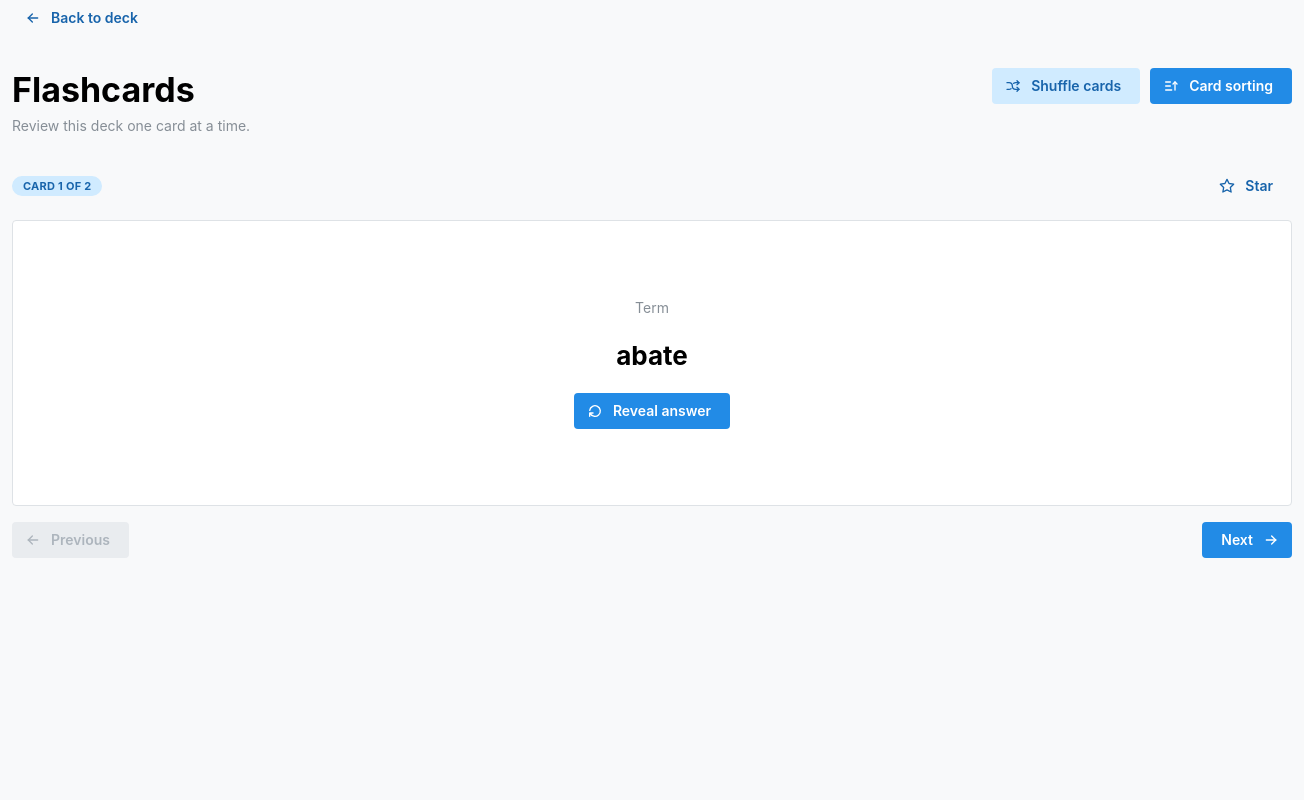
Test case: FlashcardViewerPage › clamps the current card when refreshed cards shrink
This screenshot has width=1304, height=800.
Expected: the heading "abate" is shown, [616,338,688,373]
Click the button with aria-label "Next card". click: (1247, 540)
box: [1202,522,1292,558]
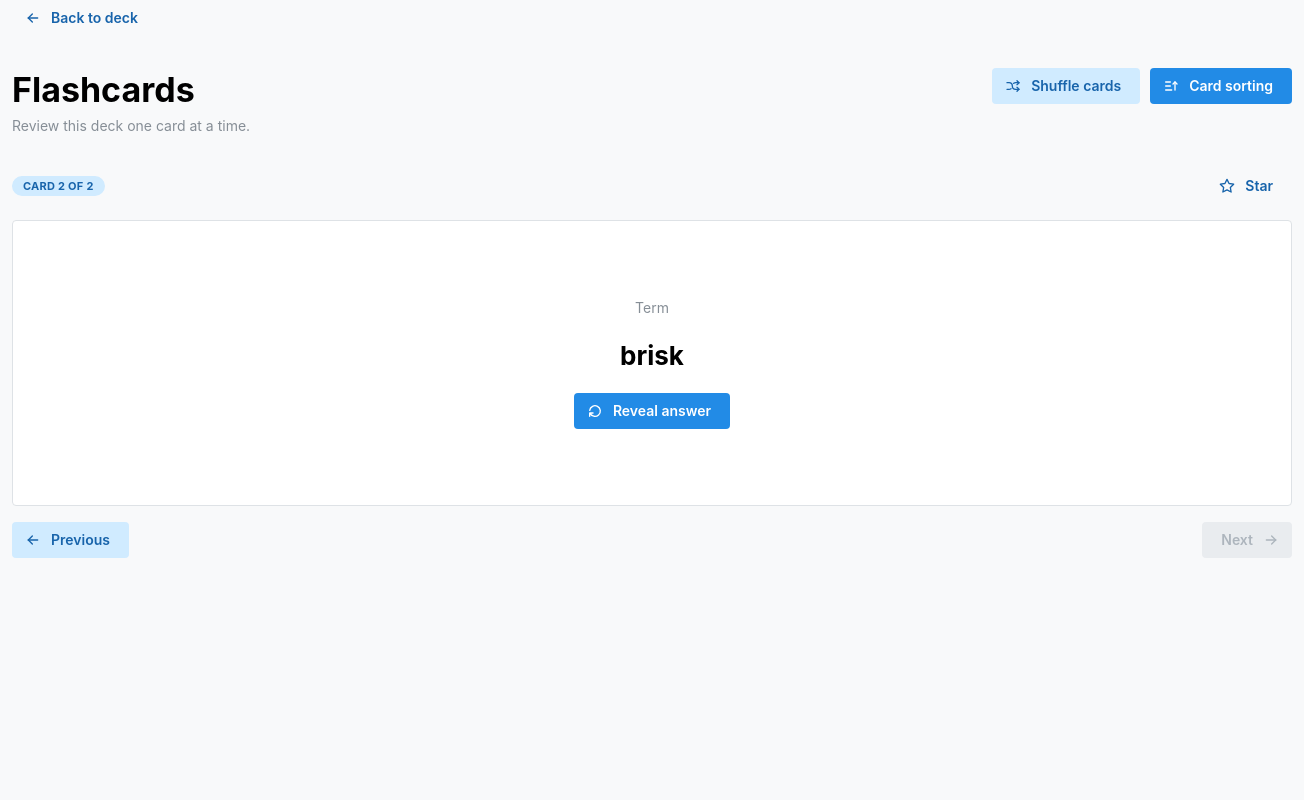
Now the heading "brisk" is shown, box [620,338,684,373]
Click the button with aria-label "Star card". click: (1249, 186)
box: [1206,168,1292,204]
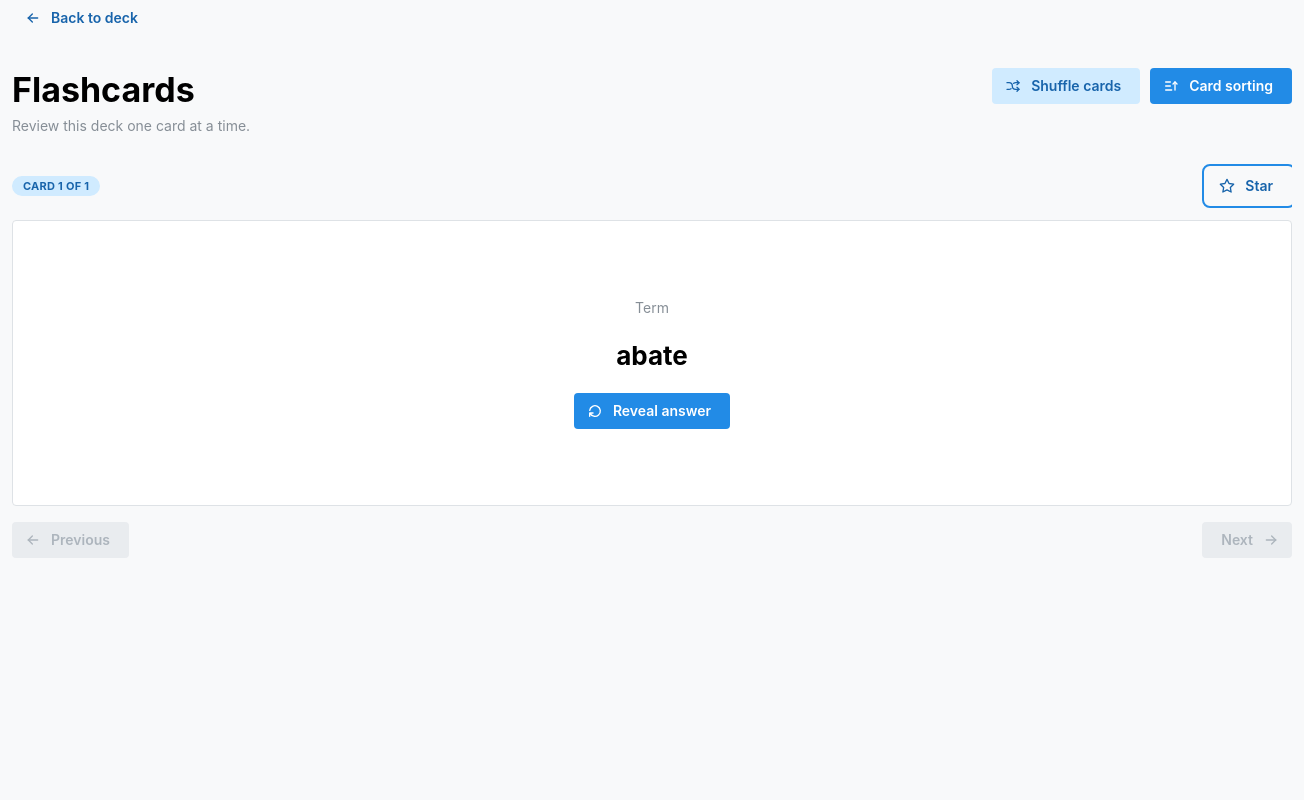
Now the text "Card 1 of 1" is shown, box [23,178,89,196]
Now the heading "abate" is shown, box [616,338,688,373]
